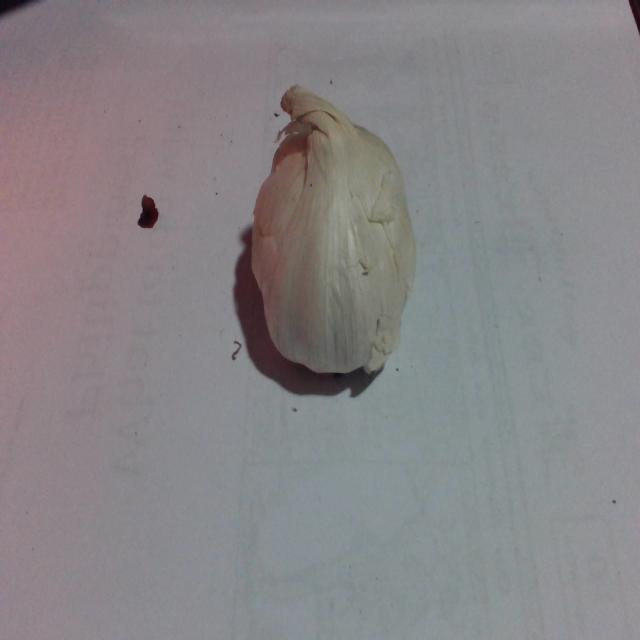garlic: (248, 95, 418, 395)
